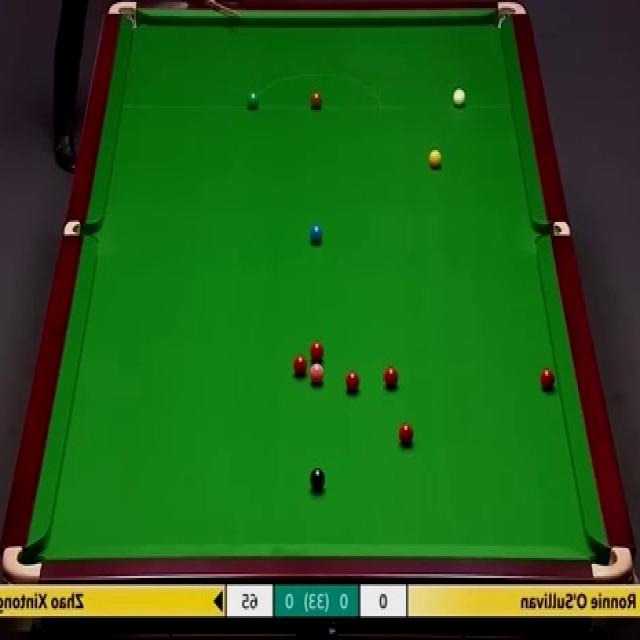black-ball: (309, 468, 326, 490)
blue-ball: (308, 224, 322, 243)
brown-ball: (310, 88, 322, 108)
green-ball: (248, 92, 261, 110)
pink-ball: (309, 364, 324, 388)
red-ball: (397, 421, 413, 449), (384, 364, 399, 390), (294, 354, 308, 378), (541, 368, 555, 391), (346, 371, 360, 392), (310, 341, 324, 360)
white-ball: (453, 90, 464, 104)
yellow-ball: (430, 150, 441, 168)
